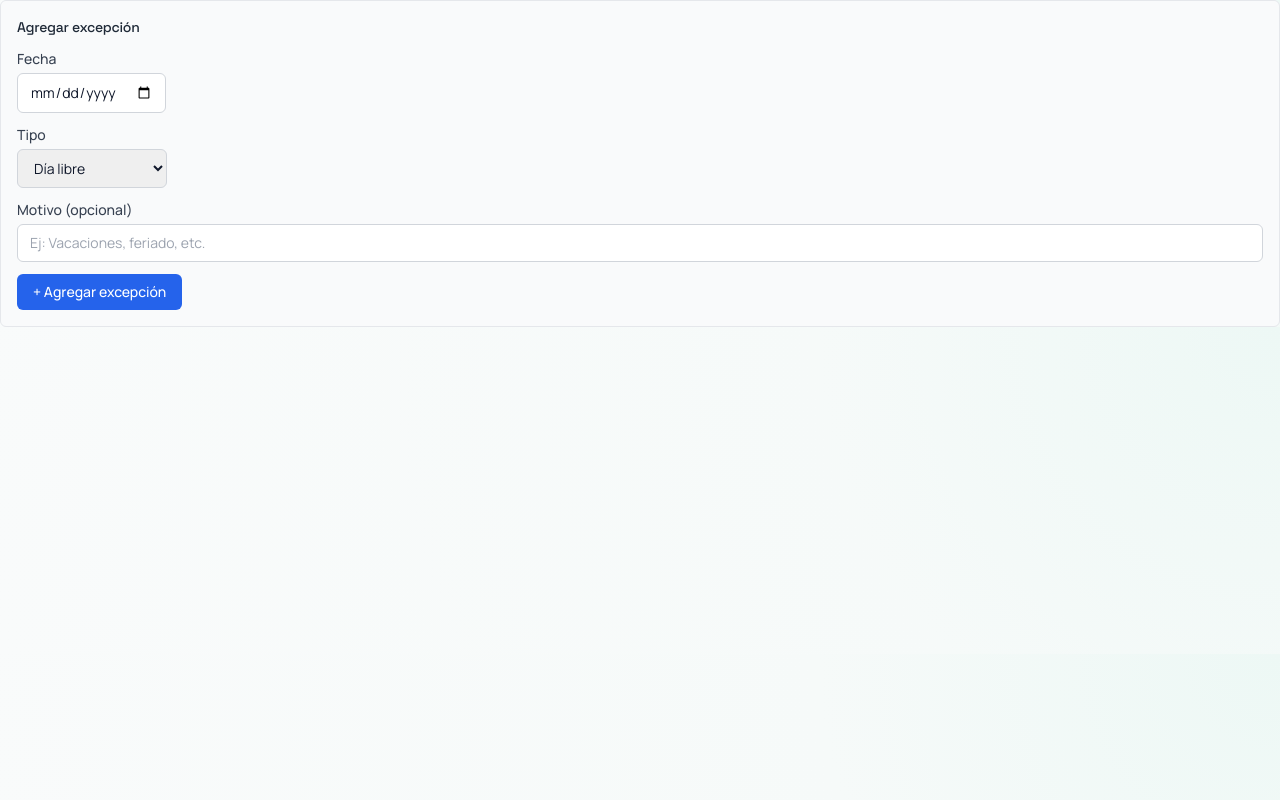
ExceptionDateForm › shows time inputs when custom_hours is selected
Select "Horario especial" in the dropdown labelled "Tipo" at (92, 168), box [17,149,167,188]
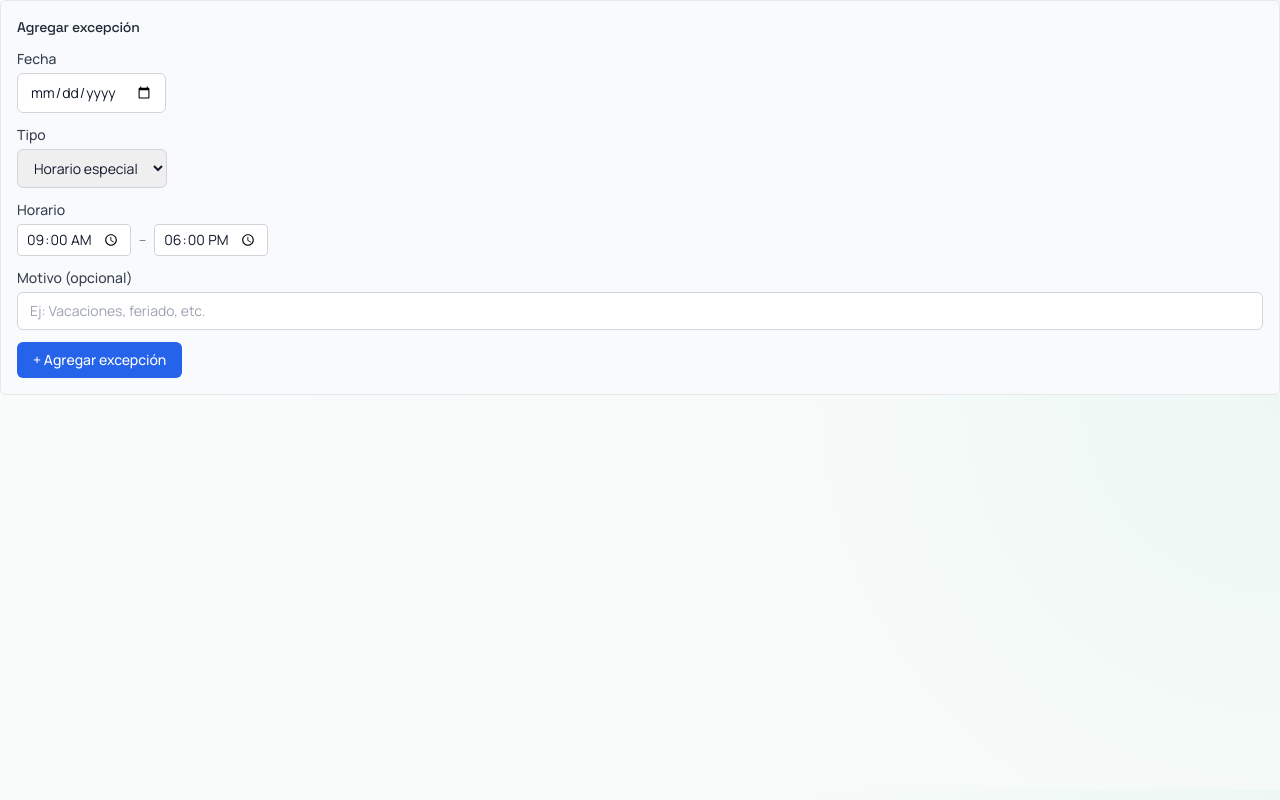
Expected: the time field named "Hora de inicio" is shown, [17,224,131,256]
Expected: the time field named "Hora de fin" is shown, [154,224,268,256]
